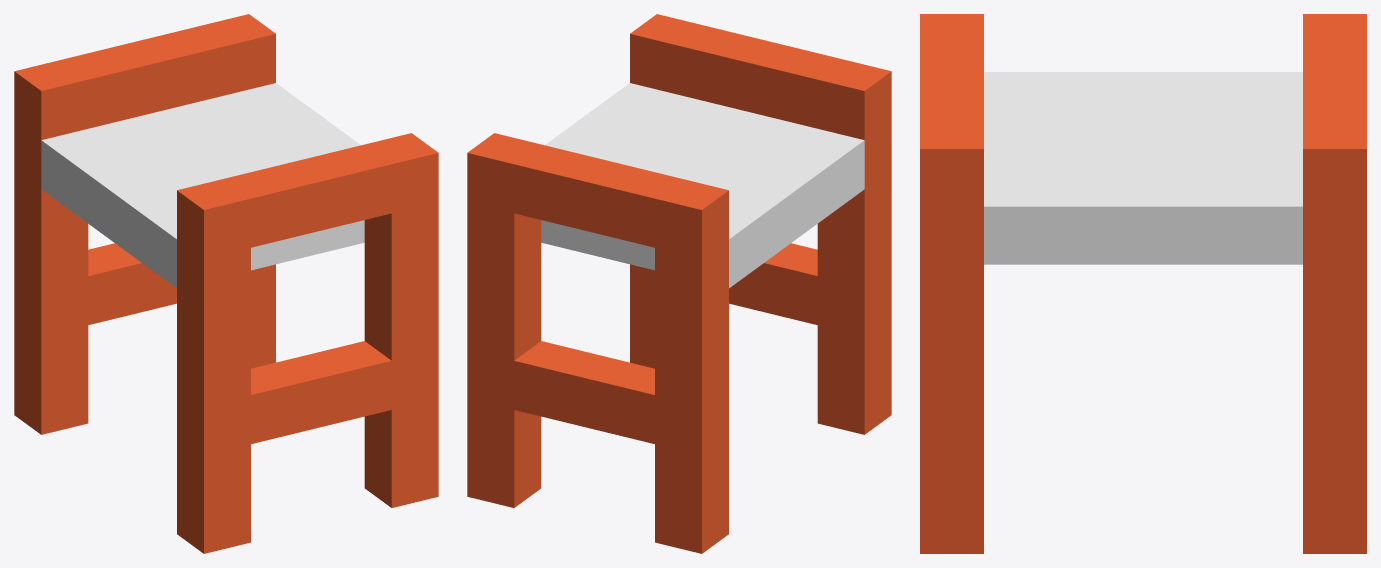
Rendered from Commisary Chair.obj.
3 renders of one model, left to right at view 1: azimuth 30°, elevation 25°; view 2: azimuth 150°, elevation 25°; view 3: azimuth 270°, elevation 25°, orthographic. The views are drawn at different scales.
Size of the model in its own units: 5 by 7 by 7.
Materials: 1 (1 with a texture image).
